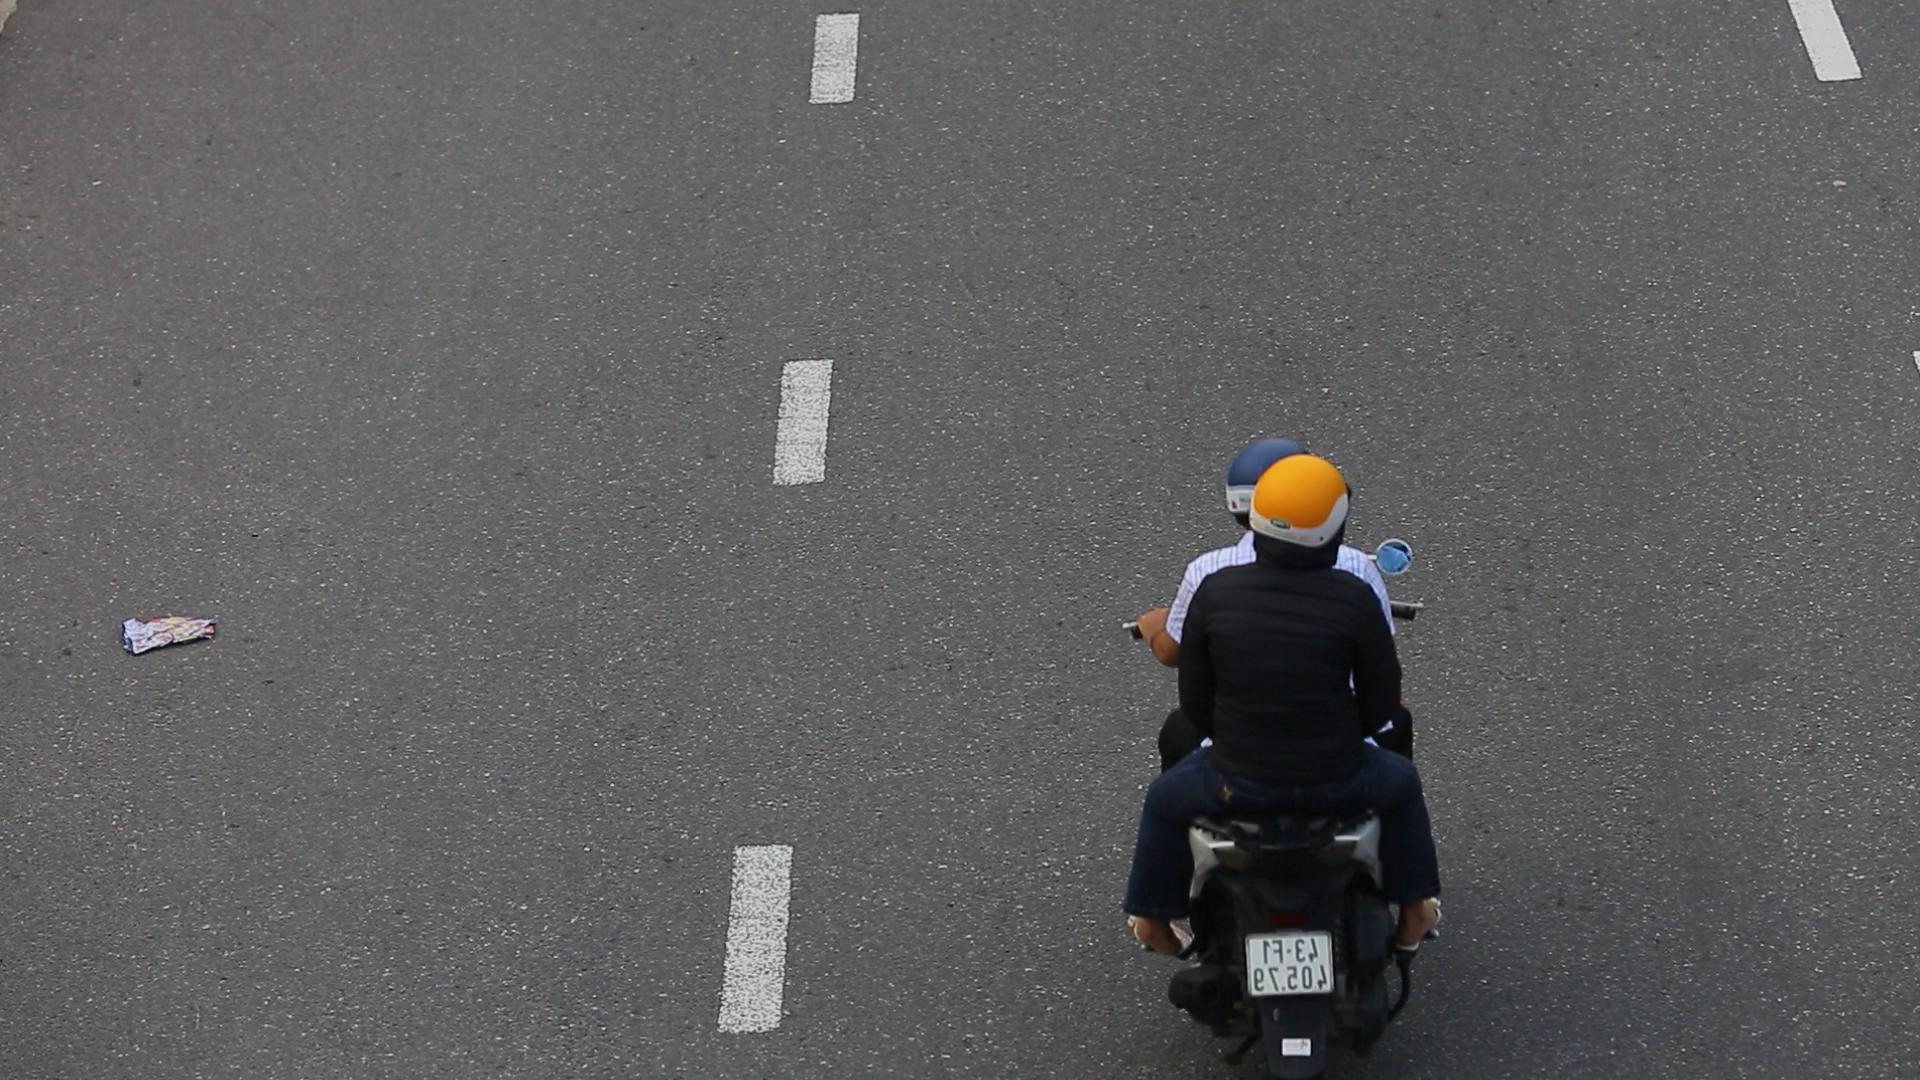motobike: (1098, 434, 1472, 1080)
